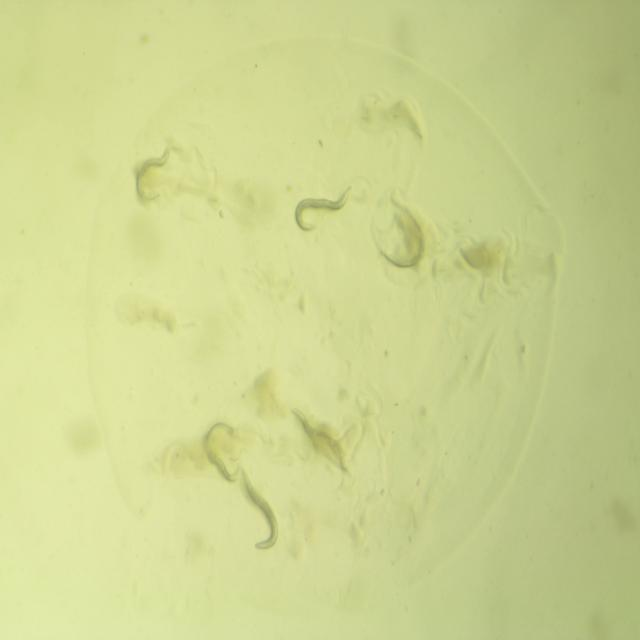worm: (229, 454, 288, 572), (284, 396, 356, 487), (372, 186, 433, 288), (120, 139, 180, 224), (192, 412, 254, 490), (284, 180, 358, 242)
